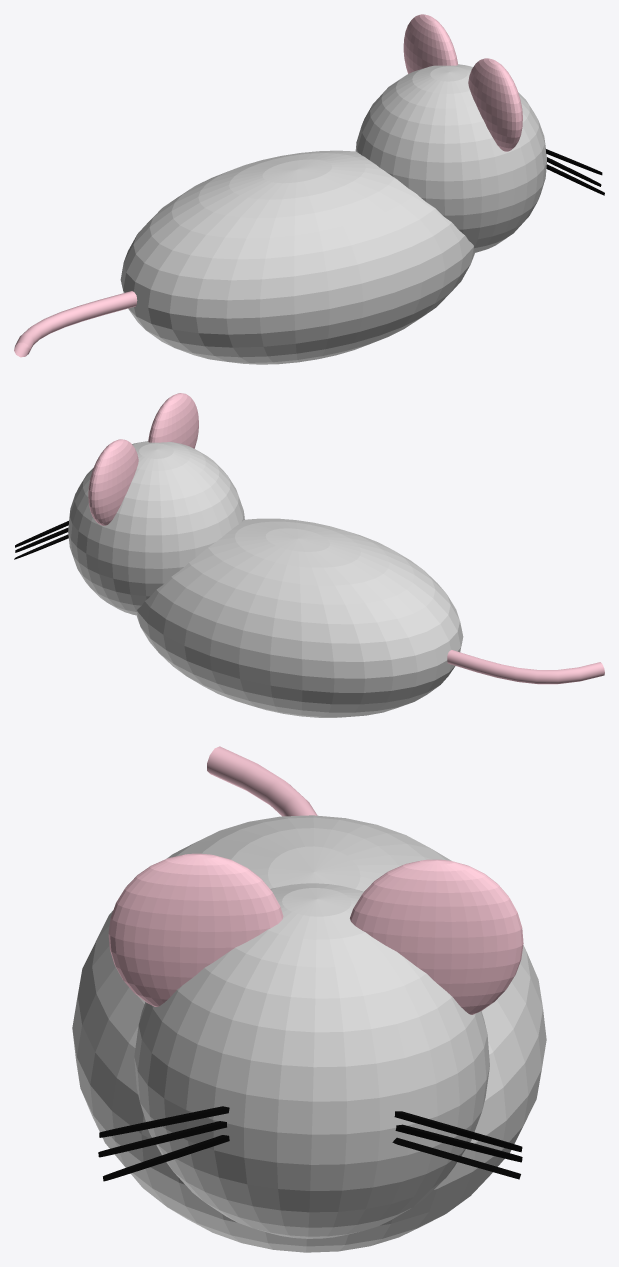
Rendered from mousemodel.glb.
3 renders of one model, top to bottom at view 1: azimuth 30°, elevation 25°; view 2: azimuth 150°, elevation 25°; view 3: azimuth 270°, elevation 25°, orthographic. The views are drawn at different scales.
Visible parts, largest first — view 1: Body, Head, Ear_R, Ear_L, Tail; view 2: Body, Head, Ear_L, Tail, Ear_R; view 3: Head, Body, Ear_R, Ear_L, Tail, Whisker_R_1, Whisker_R_2, Whisker_R_0, Whisker_L_0, Whisker_L_1, Whisker_L_2.
Boxes of the visible parts, <box> form: Body: <box>120,150,474,364</box>; Head: <box>355,64,546,252</box>; Ear_R: <box>468,58,522,151</box>; Ear_L: <box>403,14,458,73</box>; Tail: <box>14,291,137,357</box>; Body: <box>137,518,463,717</box>; Head: <box>68,441,244,615</box>; Ear_L: <box>88,439,138,525</box>; Tail: <box>447,650,604,684</box>; Ear_R: <box>148,393,198,448</box>; Head: <box>134,883,489,1238</box>; Body: <box>72,815,546,1252</box>; Ear_R: <box>108,853,283,1006</box>; Ear_L: <box>350,859,523,1014</box>; Tail: <box>207,746,317,816</box>; Whisker_R_1: <box>99,1106,229,1137</box>; Whisker_R_2: <box>103,1135,229,1181</box>; Whisker_R_0: <box>98,1121,226,1157</box>; Whisker_L_0: <box>395,1124,522,1162</box>; Whisker_L_1: <box>394,1111,522,1152</box>; Whisker_L_2: <box>392,1137,520,1179</box>.
Bounding box in the file's own units: 4.03 × 1.82 × 1.6.
